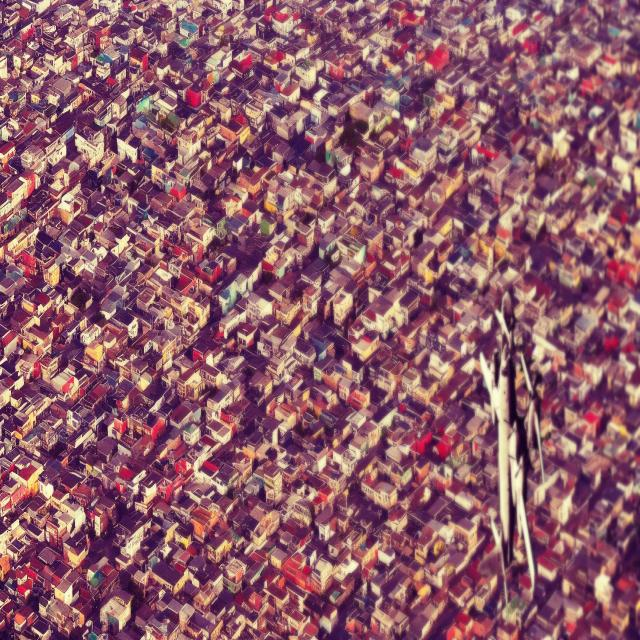airplane: (479, 288, 544, 602)
